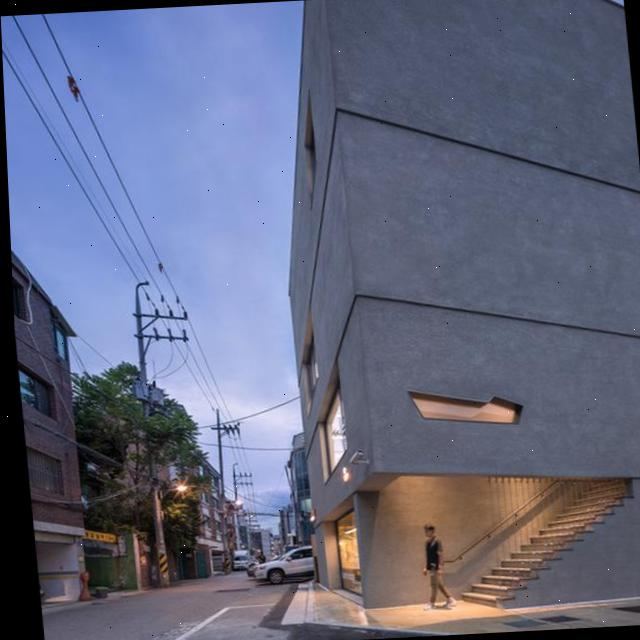building: (260, 0, 640, 640), (11, 237, 90, 607), (152, 405, 237, 593)
